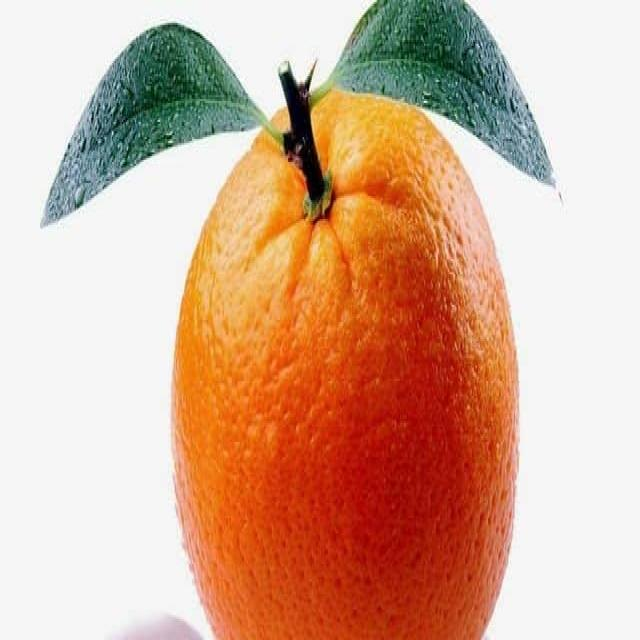orange: (171, 66, 520, 640)
